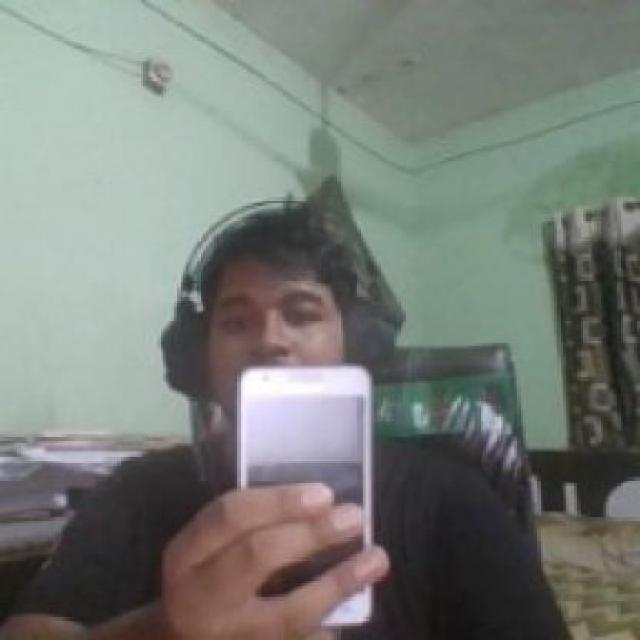Phone: (239, 365, 375, 625)
